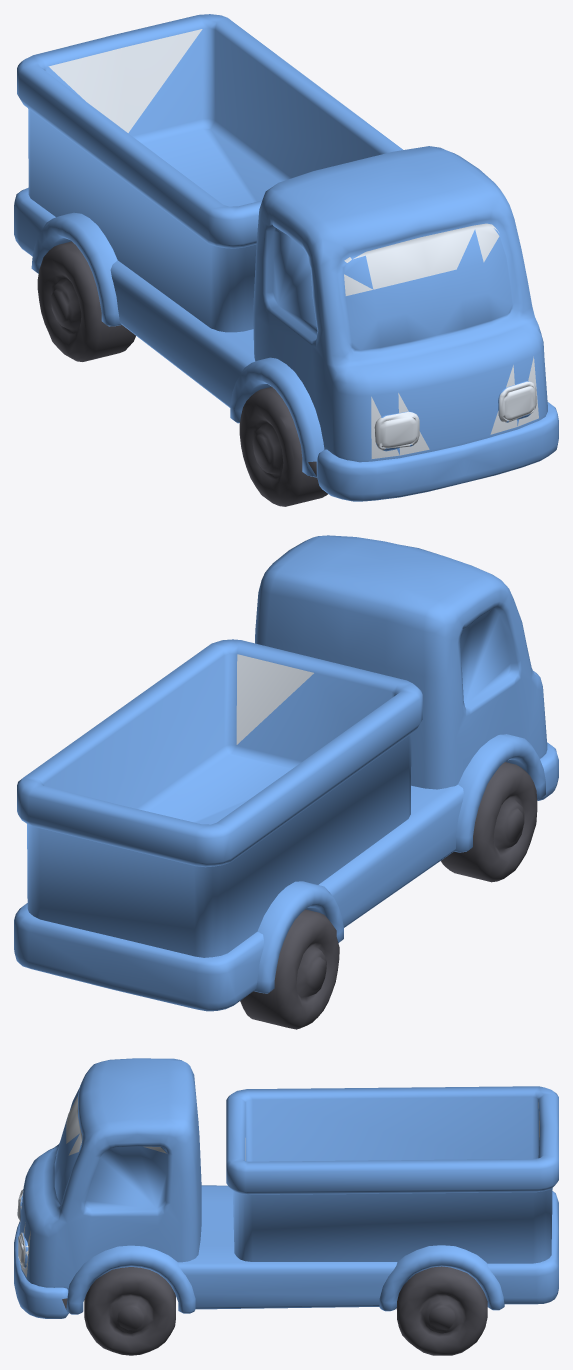
The model's file is BlueTruck.glb.
3 views of the same model, one above another, from view 1: azimuth 30°, elevation 25°; view 2: azimuth 150°, elevation 25°; view 3: azimuth 270°, elevation 25° (orthographic). The views are drawn at different scales.
Visible parts, largest first — view 1: BlueTruck; view 2: BlueTruck; view 3: BlueTruck.
Part boxes in pixels (x1,y1,x2,y2): BlueTruck: (14, 14, 558, 506); BlueTruck: (14, 535, 558, 1029); BlueTruck: (14, 1058, 558, 1355).
Bounding box in the file's own units: 0.4277 × 0.4551 × 0.998.
